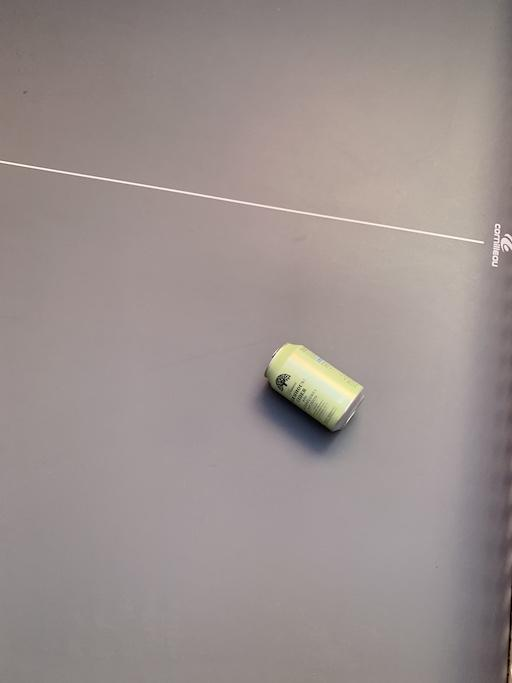Aluminum can: (254, 327, 386, 441)
